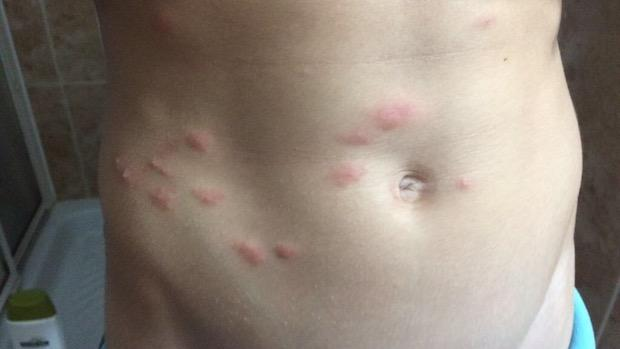Fleas: (228, 234, 269, 270), (365, 103, 412, 131), (327, 159, 365, 187), (334, 121, 373, 148), (180, 128, 215, 154), (109, 155, 136, 187), (454, 176, 487, 201), (187, 182, 219, 207), (146, 155, 172, 182), (269, 238, 298, 262), (470, 11, 499, 35), (149, 189, 172, 210)
